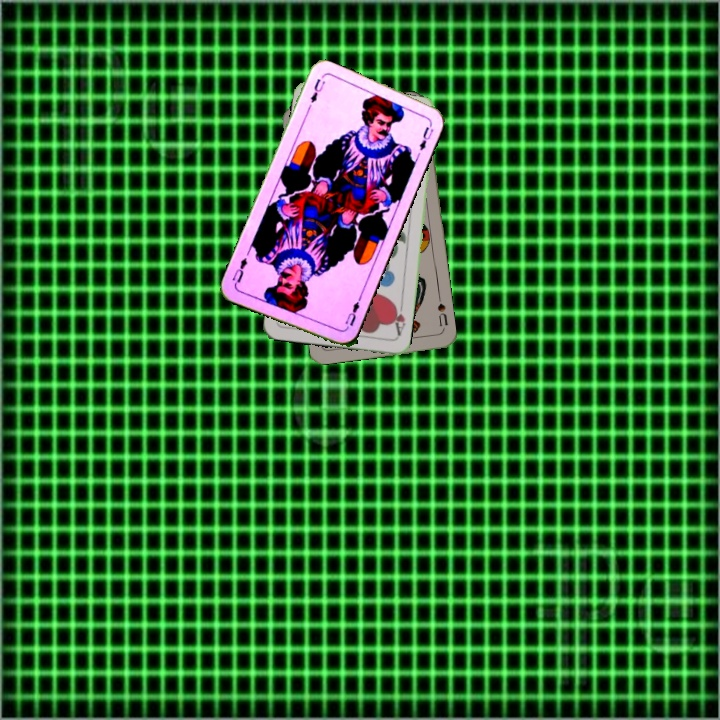EU: (341, 293, 364, 329), (306, 74, 326, 105)
HA: (388, 299, 408, 339)
SU: (433, 299, 450, 333)
